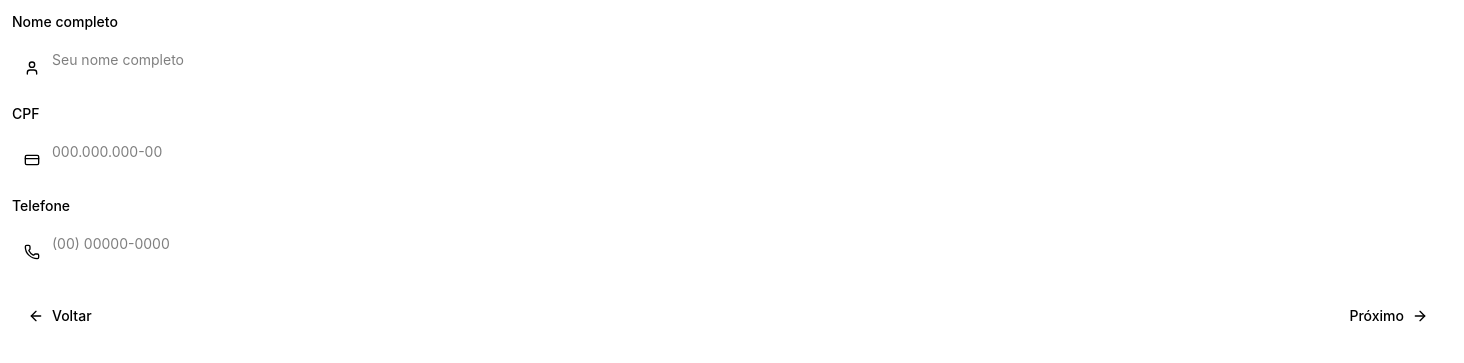
Test: StepPersonalData › CPF async status icons › shows valid status when CPF exists
The width and height of the screenshot is (1464, 363).
In the field labelled "CPF": (732, 152) 12,132 -> 1452,172, type "52998224725"
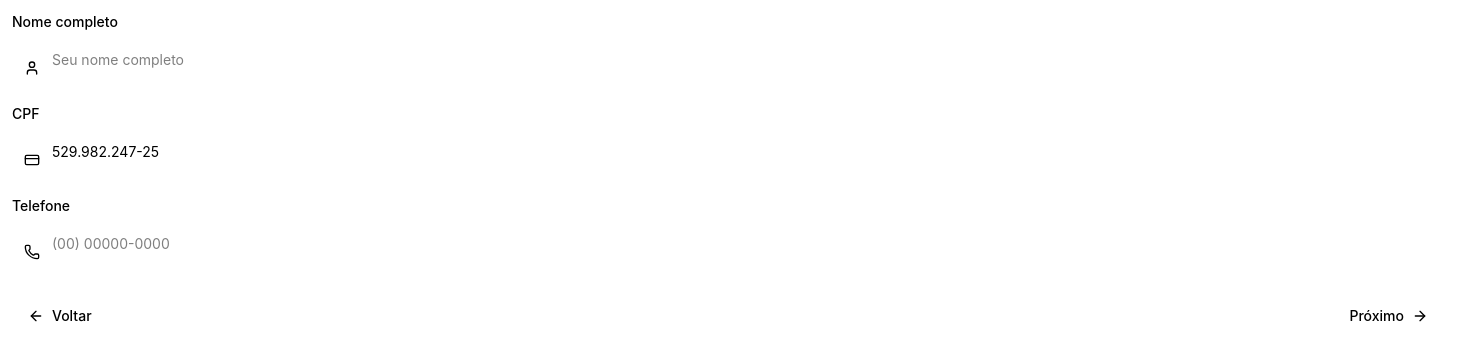
Press Tab
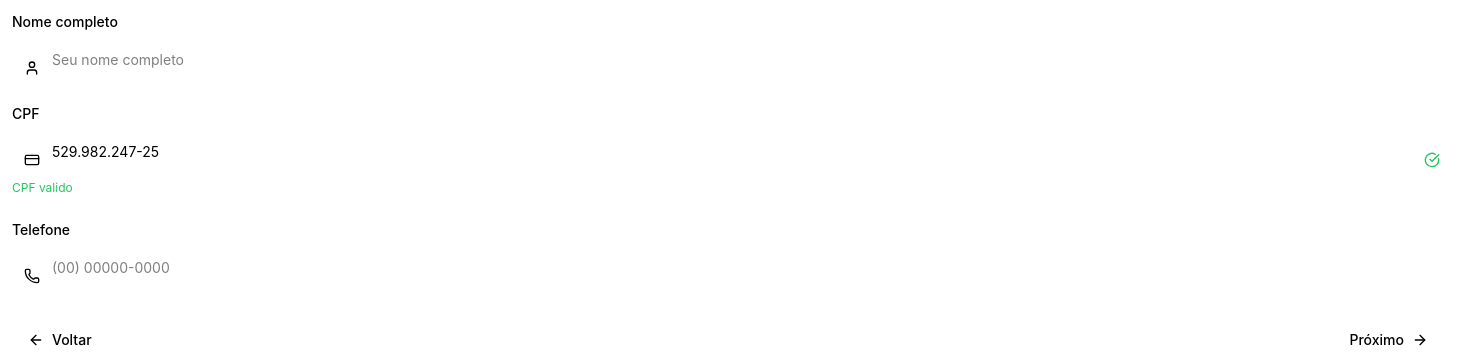
Result: the text "CPF valido" is shown at 12,180 -> 73,195
